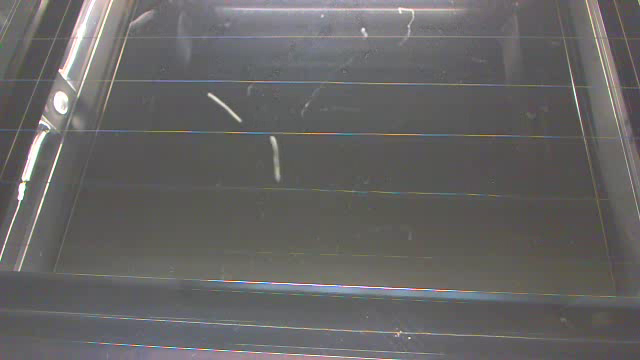Alfa: (204, 90, 251, 130), (259, 130, 289, 186), (122, 4, 159, 29)
